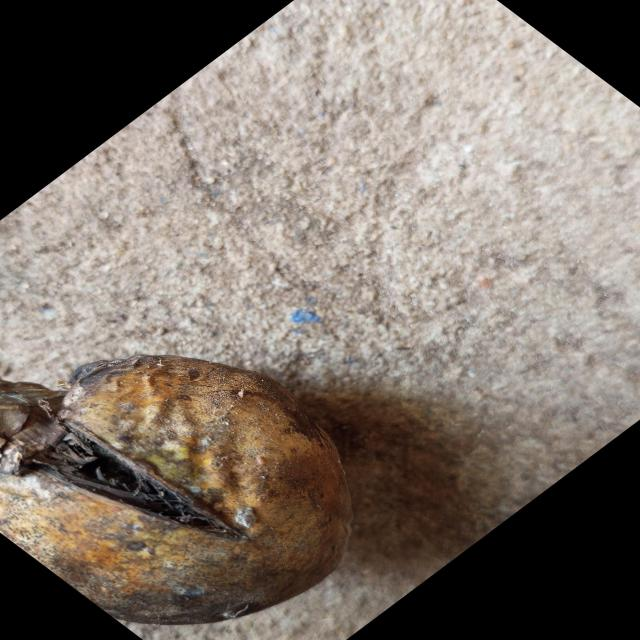damaged: (0, 355, 351, 624)
